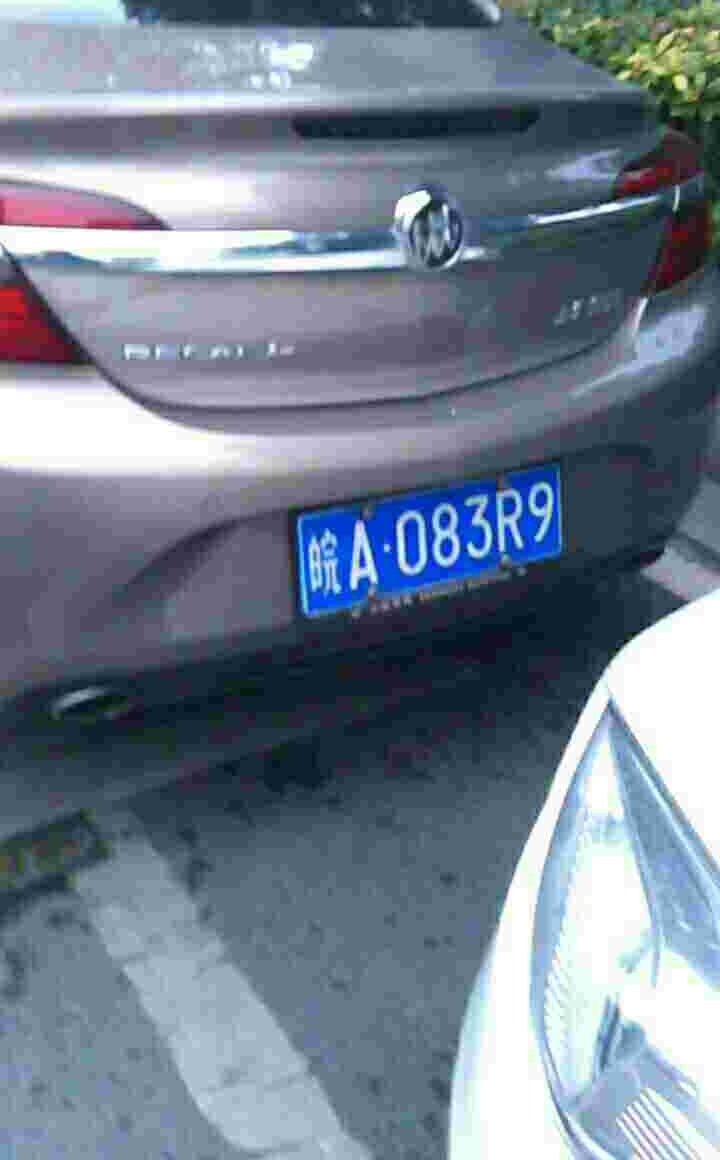license_plate: (295, 464, 569, 613)
